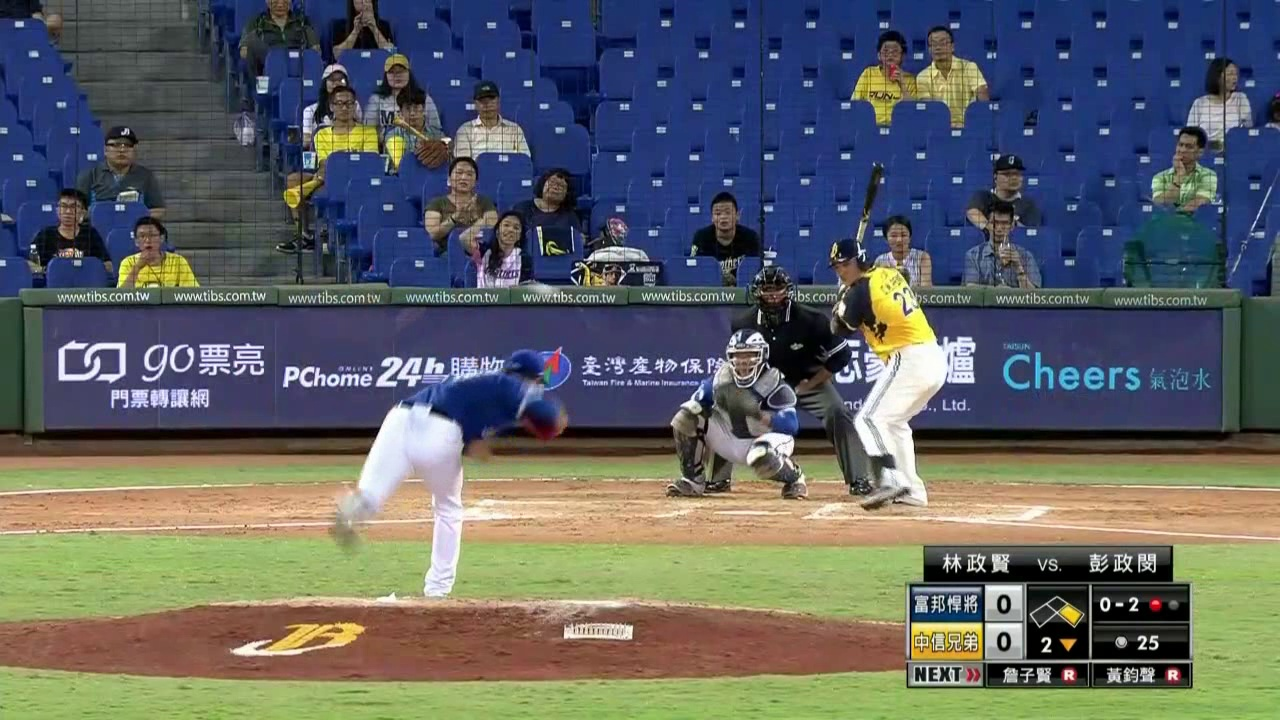ball: (533, 281, 552, 300)
base: (1030, 593, 1087, 628)
bat: (840, 159, 886, 294)
out: (1144, 588, 1186, 618)
score1: (988, 588, 1022, 620)
score2: (988, 627, 1019, 655)
session: (1029, 627, 1085, 657)
strikeball: (1093, 588, 1141, 620)
total: (1093, 627, 1184, 655)
